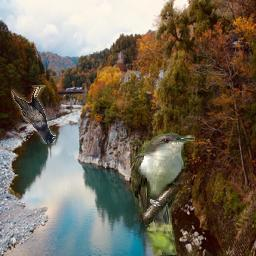Crow: (12, 86, 57, 145)
Cuckoo: (131, 129, 195, 256)
